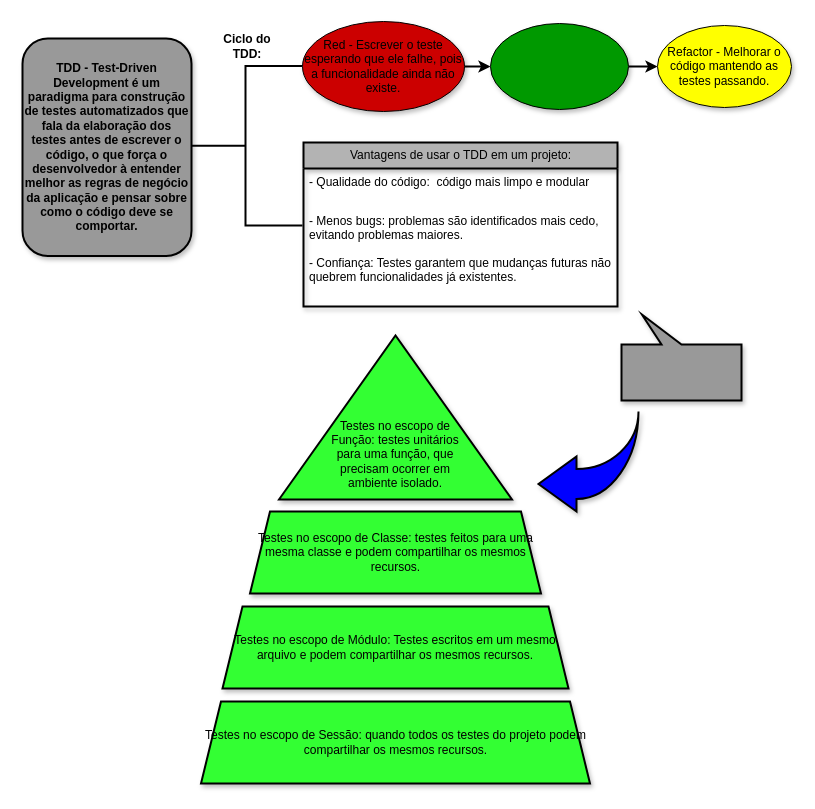
Some shapes in this 815 by 809 pixel diagram are drawn without their labels. Each missing label, with the centre of its shape:
Dicas para a organização dos testes!: the point at 682,358
Green - Escrever o código mínimo para o teste passar.: the point at 560,67
